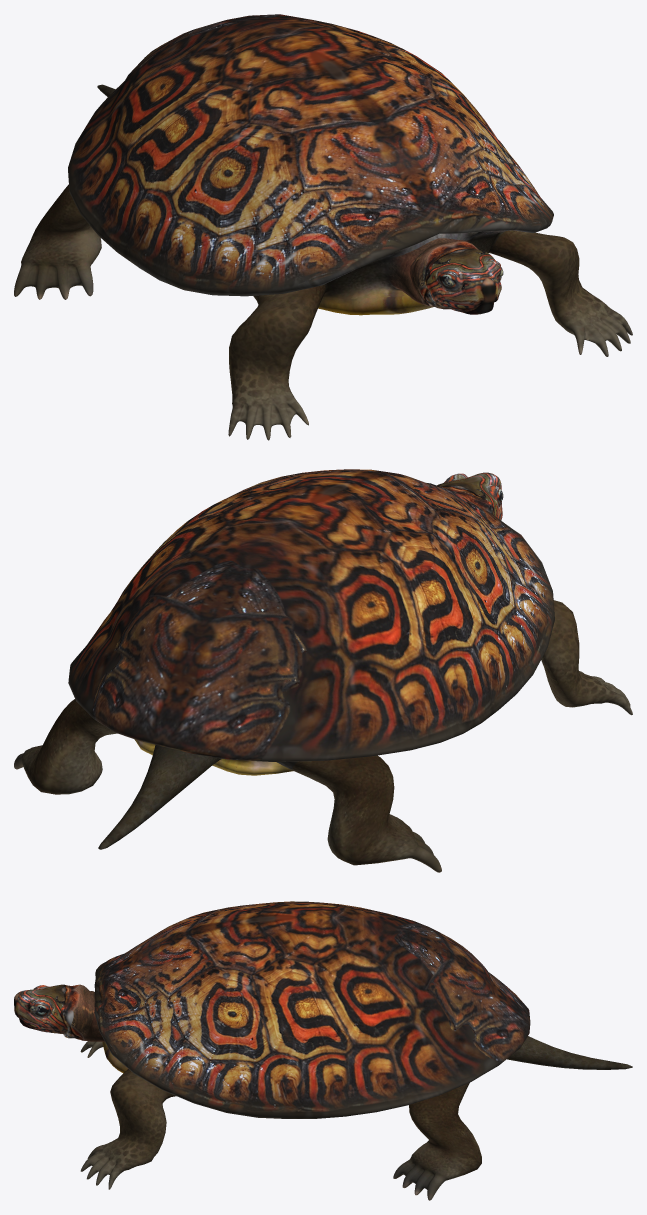
File: TortugaRoja.gltf
3 views of the same model, one above another, from view 1: azimuth 30°, elevation 25°; view 2: azimuth 150°, elevation 25°; view 3: azimuth 270°, elevation 25° (orthographic). The views are drawn at different scales.
Visible parts, largest first — view 1: TortugaRoja; view 2: TortugaRoja; view 3: TortugaRoja.
Part boxes in pixels (x1,y1,x2,y2): TortugaRoja: [14, 14, 632, 440]; TortugaRoja: [14, 469, 632, 872]; TortugaRoja: [14, 901, 632, 1200].
Bounding box in the file's own units: 1.69 × 0.972 × 2.69.
1 material, 1 textured.
